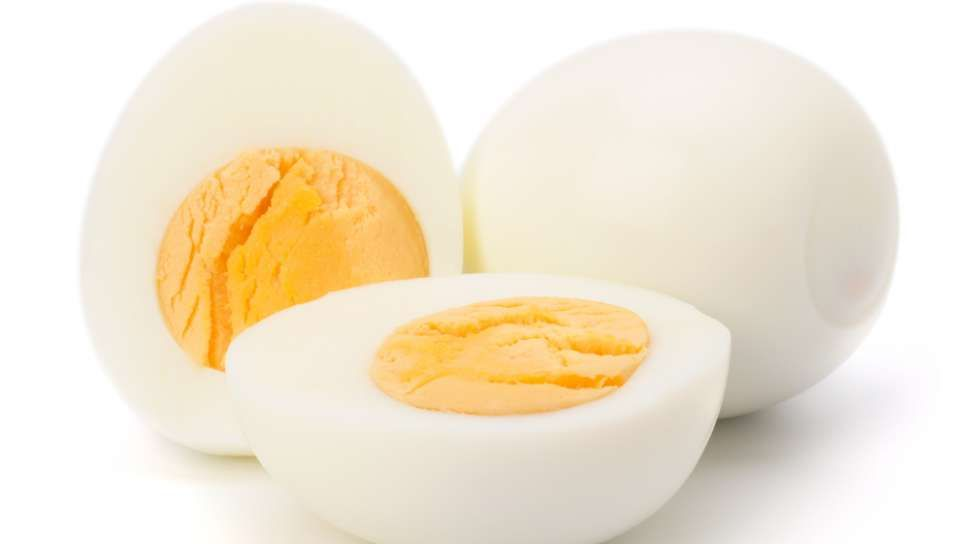Telur: (438, 27, 885, 412), (88, 19, 457, 400), (223, 253, 681, 544)
